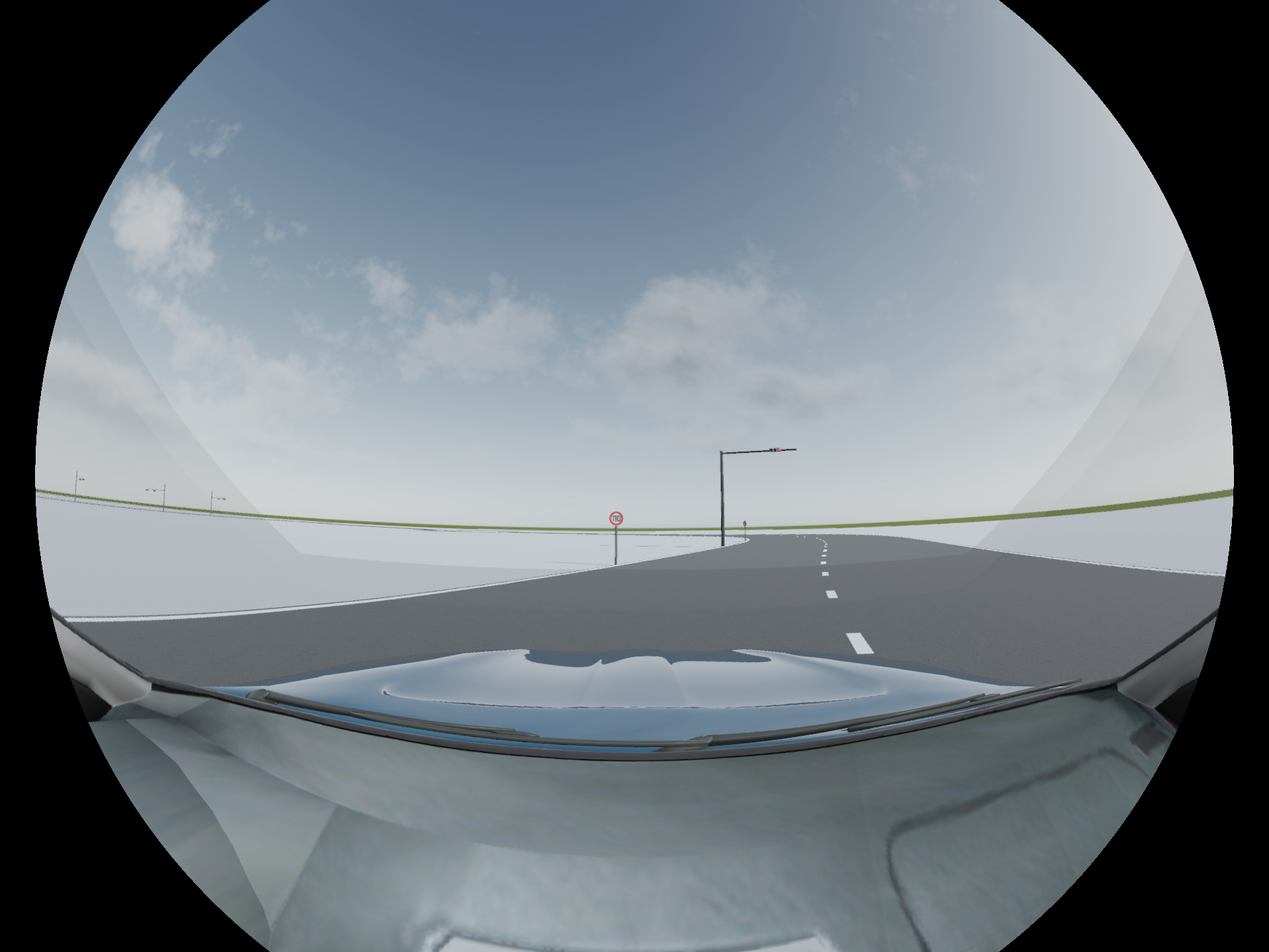Red Light: (769, 447, 781, 452)
Speed Limit 110: (610, 511, 622, 525)
